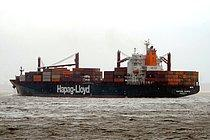Ship: (7, 37, 203, 102)
